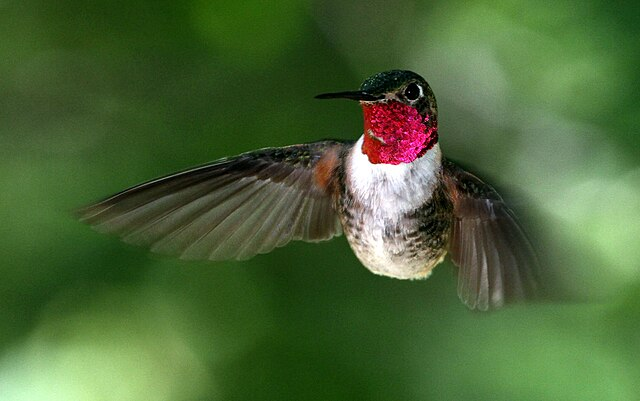selasphorus platycercus: (86, 69, 543, 311)
